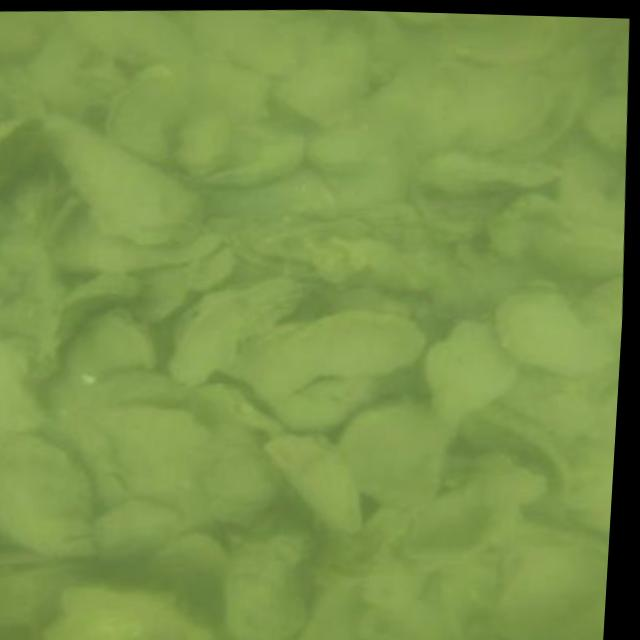Oyster-Closed: (460, 68, 583, 157), (417, 153, 564, 198), (467, 452, 547, 517), (0, 117, 44, 183)
Oyster-Indeterminate: (49, 119, 200, 243), (236, 310, 422, 389), (82, 405, 213, 516), (172, 276, 306, 381), (38, 577, 216, 640), (0, 433, 92, 554), (339, 399, 442, 506), (222, 522, 314, 640), (55, 211, 228, 273), (59, 10, 201, 77), (426, 319, 516, 423), (264, 434, 357, 533), (280, 25, 370, 127), (494, 288, 602, 373), (104, 67, 184, 164), (184, 129, 308, 188), (69, 308, 157, 380), (277, 377, 394, 430), (96, 497, 187, 561), (204, 442, 274, 519), (442, 14, 548, 60), (0, 343, 52, 432), (177, 109, 230, 175)
